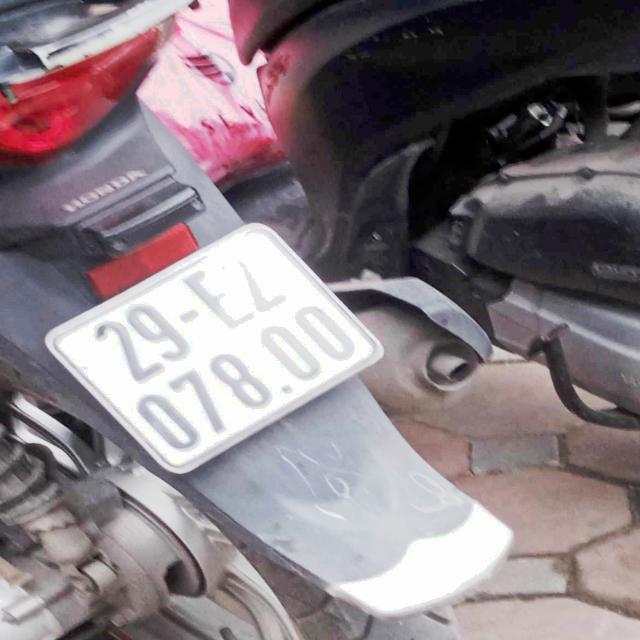license_plate: (37, 214, 398, 483)
